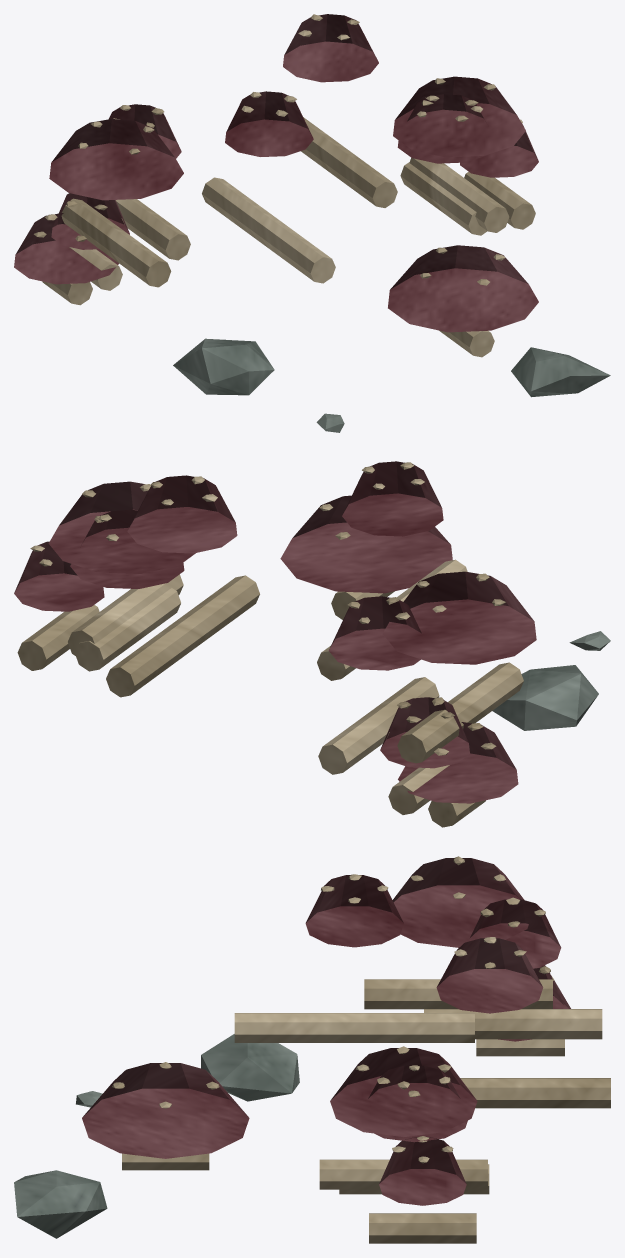
The model's file is 0223_mushroom_patch_23.glb.
The picture shows the model from 3 angles, top to bottom: view 1: azimuth 30°, elevation 25°; view 2: azimuth 150°, elevation 25°; view 3: azimuth 270°, elevation 25°; orthographic projection. The views are drawn at different scales.
Visible parts, largest first — view 1: cloth, bone, stone; view 2: cloth, bone, stone; view 3: cloth, bone, stone.
Boxes of the visible parts, x1,y1,x2,y2 form: cloth: (14,14,538,332); bone: (34,14,535,357); stone: (173,338,610,432); cloth: (14,461,536,803); bone: (17,462,523,827); stone: (492,631,610,730); cloth: (82,858,570,1205); bone: (112,856,610,1243); stone: (14,1034,299,1238).
Size of the model in its own units: 2.23 by 1.07 by 2.23.
Materials: 3 (3 with a texture image).
